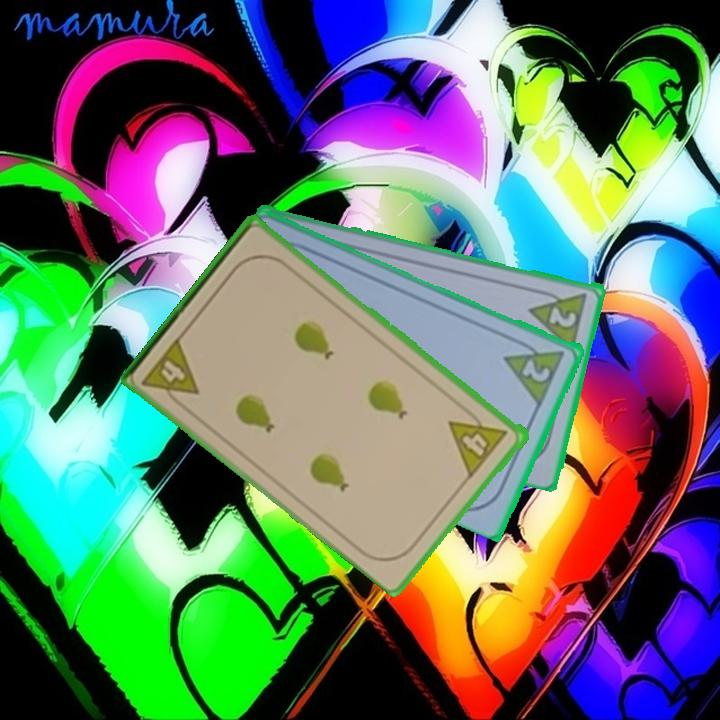2p: (501, 333, 569, 407), (526, 284, 591, 352)
4p: (138, 333, 203, 413), (445, 402, 512, 479)
